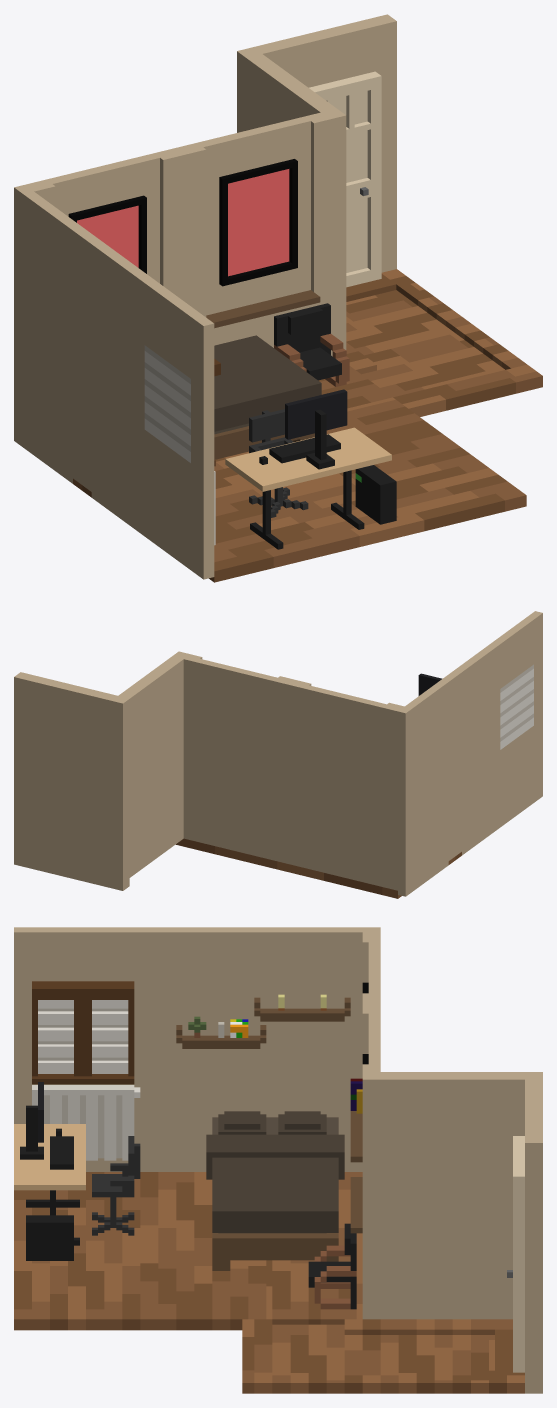
Rendered from bedroom.glb.
3 views of the same model, one above another, from view 1: azimuth 30°, elevation 25°; view 2: azimuth 150°, elevation 25°; view 3: azimuth 270°, elevation 25° (orthographic). The views are drawn at different scales.
Visible parts, largest first — view 1: Untitled, Untitled.002, Untitled.001, right paint, Untitled.003, left_paint; view 2: Untitled; view 3: Untitled, Untitled.001, Untitled.002, Untitled.003.
Boxes of the visible parts, x1=… form: Untitled: x1=14, y1=14, x2=542, y2=582; Untitled.002: x1=225, y1=389, x2=396, y2=549; Untitled.001: x1=214, y1=335, x2=321, y2=459; right paint: x1=228, y1=169, x2=289, y2=276; Untitled.003: x1=274, y1=303, x2=349, y2=386; left_paint: x1=77, y1=205, x2=138, y2=267; Untitled: x1=14, y1=611, x2=542, y2=898; Untitled: x1=14, y1=927, x2=542, y2=1393; Untitled.001: x1=206, y1=1111, x2=344, y2=1270; Untitled.002: x1=14, y1=1082, x2=140, y2=1260; Untitled.003: x1=308, y1=1223, x2=356, y2=1309.
Bounding box in the file's own units: 8.5 × 4.6 × 8.8.
Materials: 6 (6 with a texture image).
